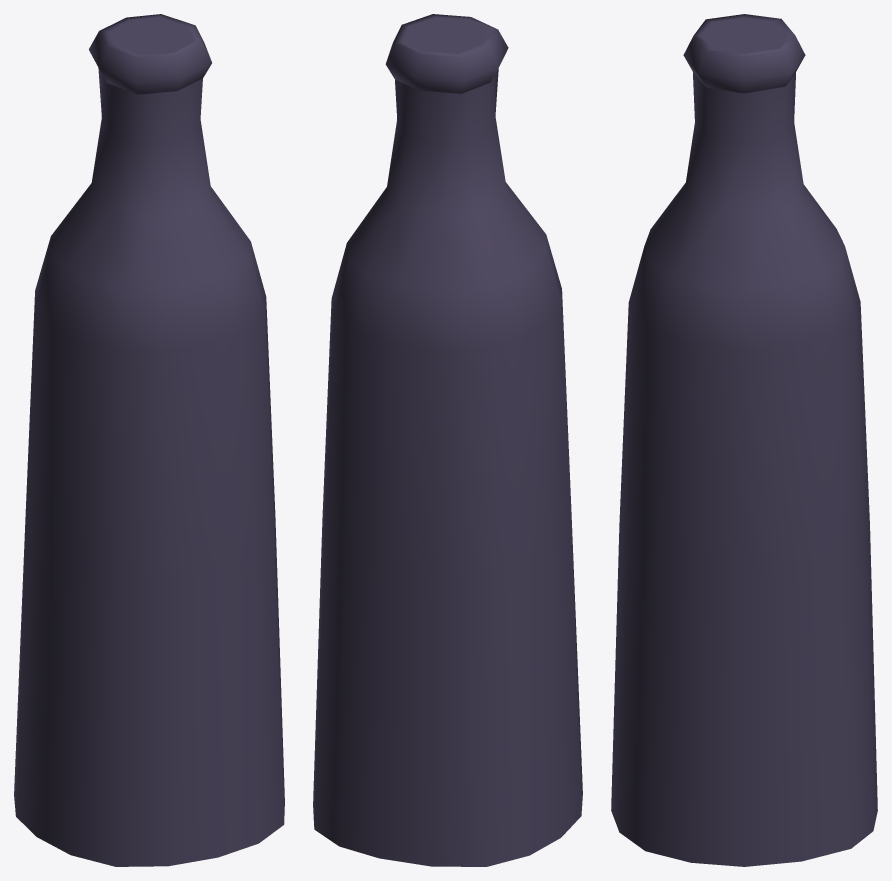
The model's file is flaske2_lilla.fbx.
The picture shows the model from 3 angles, left to right: view 1: azimuth 30°, elevation 25°; view 2: azimuth 150°, elevation 25°; view 3: azimuth 270°, elevation 25°; orthographic projection.
Parts seen in each view (by area): view 1: pCube14; view 2: pCube14; view 3: pCube14.
Boxes of the visible parts, x1,y1,x2,y2 form: pCube14: [14, 14, 284, 866]; pCube14: [313, 14, 582, 866]; pCube14: [611, 14, 877, 866].
Bounding box in the file's own units: 1 × 3.21 × 1.
